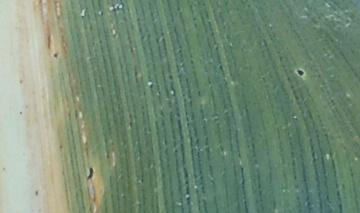tarspot: (293, 67, 306, 76), (87, 167, 94, 180), (52, 49, 59, 58), (33, 188, 40, 197), (17, 108, 24, 116), (168, 73, 174, 81), (58, 144, 64, 149)
